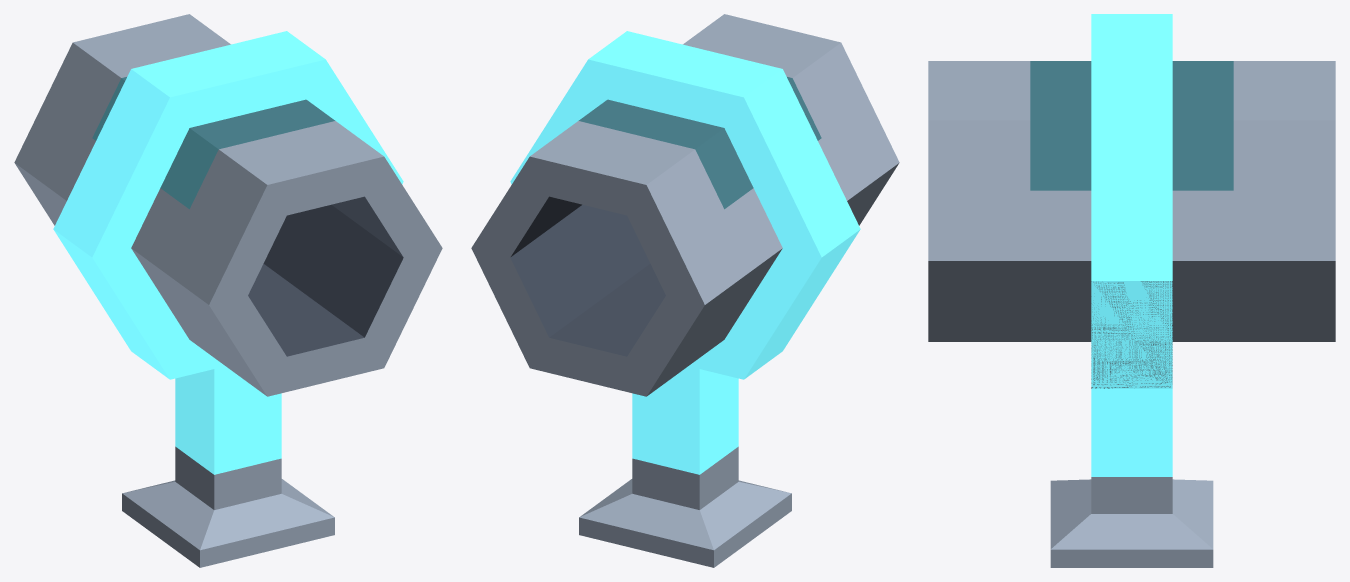
The model's file is pipe_ringHigh.glb.
3 renders of one model, left to right at view 1: azimuth 30°, elevation 25°; view 2: azimuth 150°, elevation 25°; view 3: azimuth 270°, elevation 25°, orthographic. The views are drawn at different scales.
Visible parts, largest first — view 1: pipe_ringHigh; view 2: pipe_ringHigh; view 3: pipe_ringHigh.
Part boxes in pixels (box(x1,y1,x2,y2)): pipe_ringHigh: box(14, 14, 442, 567); pipe_ringHigh: box(471, 14, 899, 567); pipe_ringHigh: box(928, 14, 1335, 567).
Size of the model in its own units: 0.9238 by 1.3 by 1.
